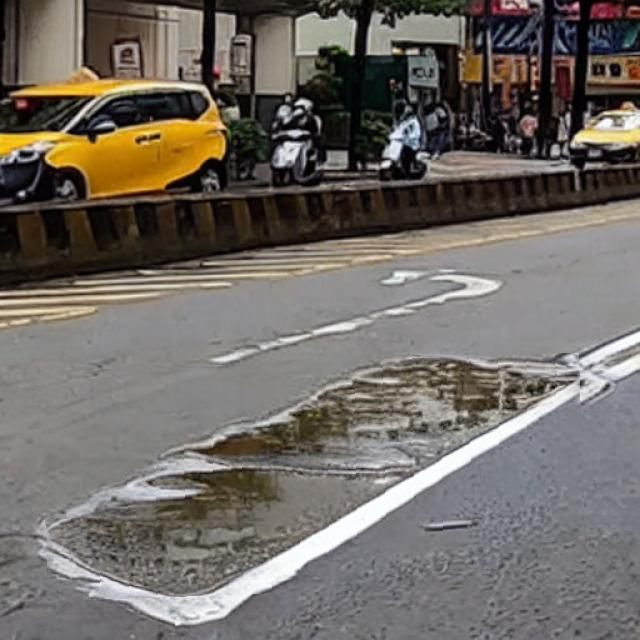puddle: (43, 358, 586, 598)
